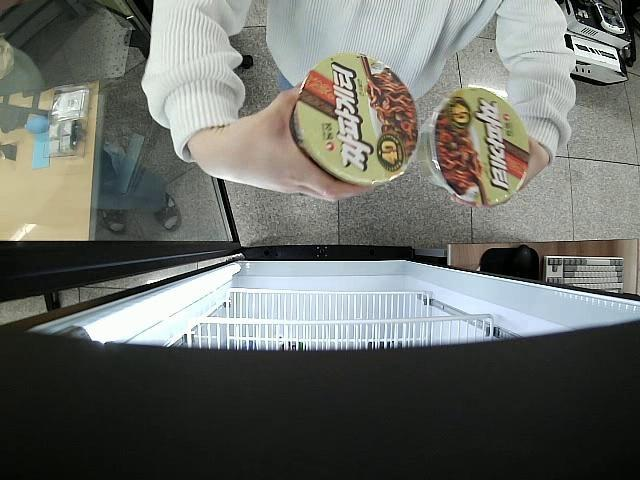03_chapagetti_L: (291, 52, 420, 187), (423, 87, 528, 206)
